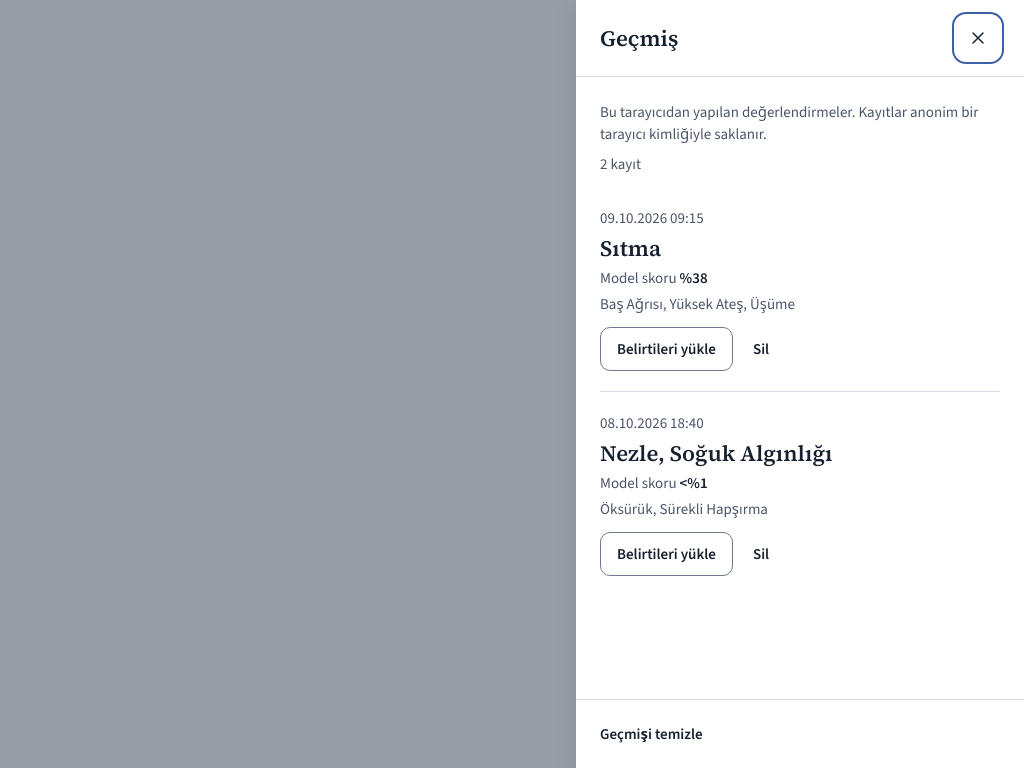
HistoryDrawer › deletes a single entry
What coordinates should you click on to do the following:
click the button with aria-label "Sıtma kaydını sil"
I would click on:
 (761, 349)
Its box is [741,327,781,371].
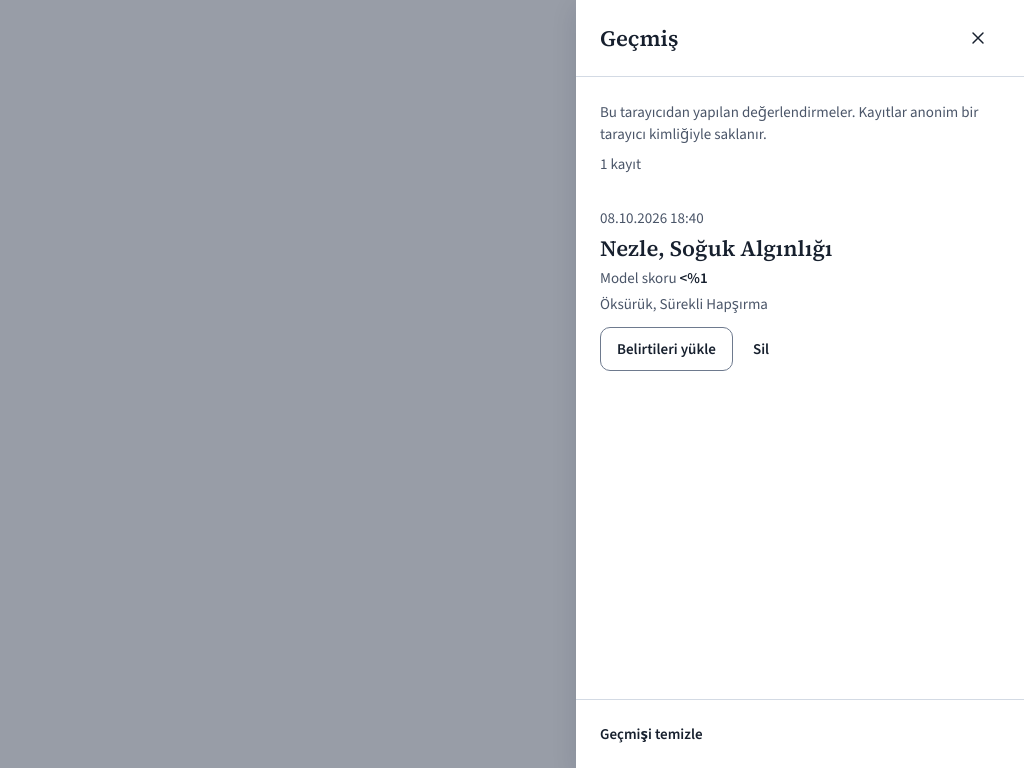
Expected: the number of list items is 1, [600,208,832,371]
Expected: the text "Sıtma" is gone
